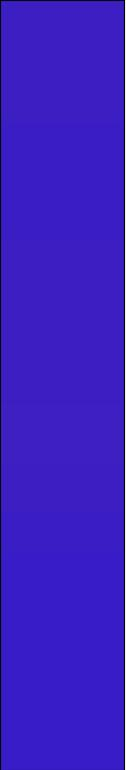safe: (13, 10, 116, 755)
